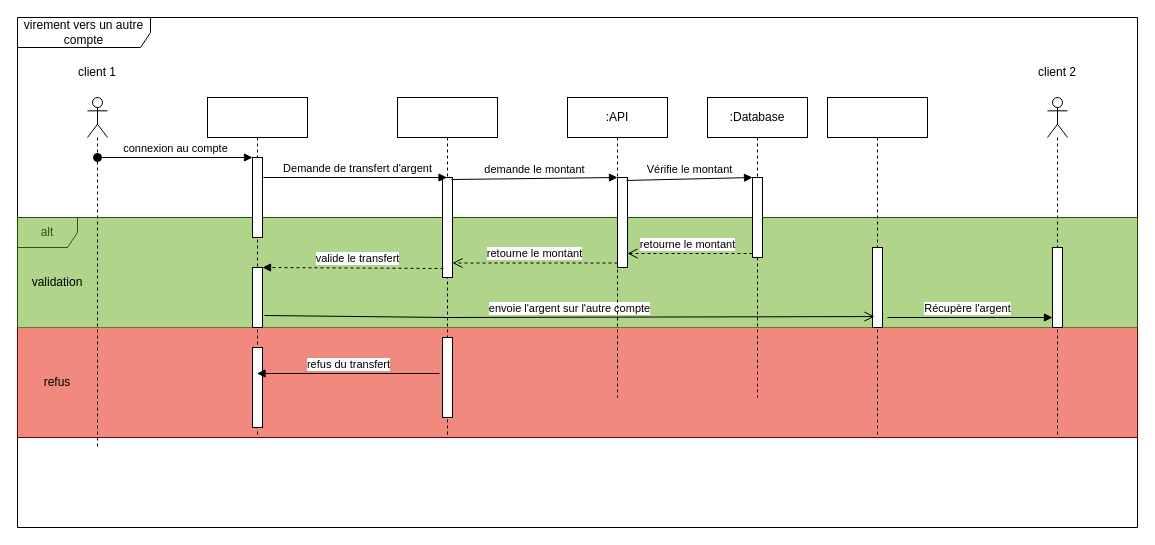
Some shapes in this 1155 by 545 pixel diagram are drawn without their labels. The shapes that lost their labels are listed below. From the top down, each one's centre as x and y in pixels, then its label:
the point at 257,267: :compte client 1
the point at 447,267: Admin
the point at 877,267: :compte client 2
